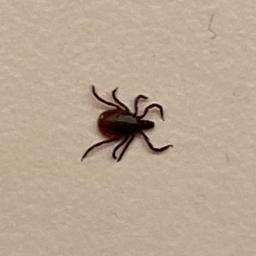Ixodes scapularis: (80, 85, 174, 163)
